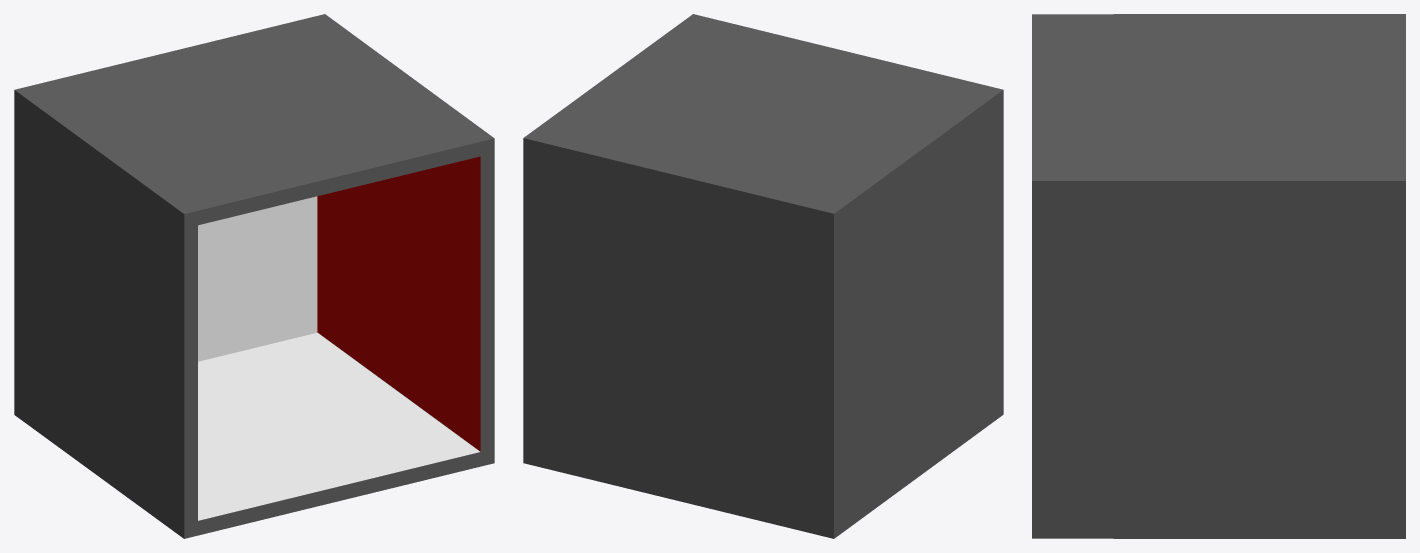
Rendered from shading_test_box.obj.
The picture shows the model from 3 angles, left to right: view 1: azimuth 30°, elevation 25°; view 2: azimuth 150°, elevation 25°; view 3: azimuth 270°, elevation 25°; orthographic projection. The views are drawn at different scales.
Parts seen in each view (by area): view 1: Box; view 2: Box; view 3: Box.
Part boxes in pixels (x1,y1,x2,y2): Box: (14, 14, 494, 538); Box: (523, 14, 1003, 538); Box: (1032, 14, 1405, 538).
Size of the model in its own units: 2.2 by 2.2 by 2.08.
